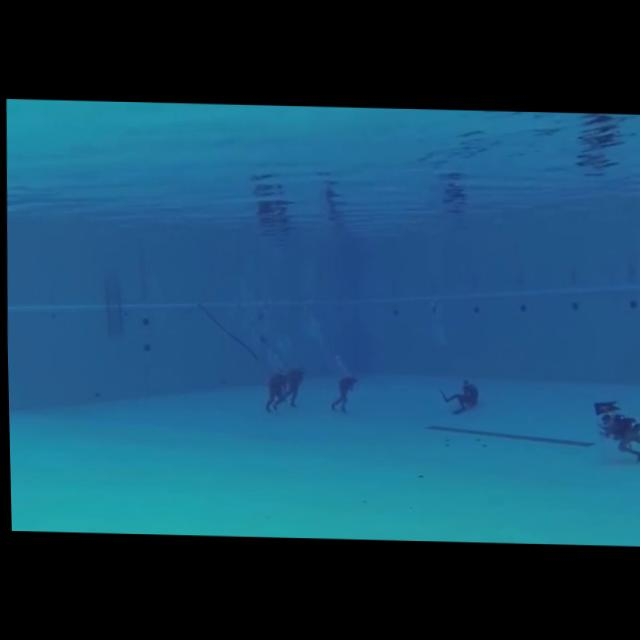human: (584, 392, 640, 464), (434, 369, 482, 419), (324, 368, 362, 416), (274, 359, 307, 410), (257, 359, 285, 419)
